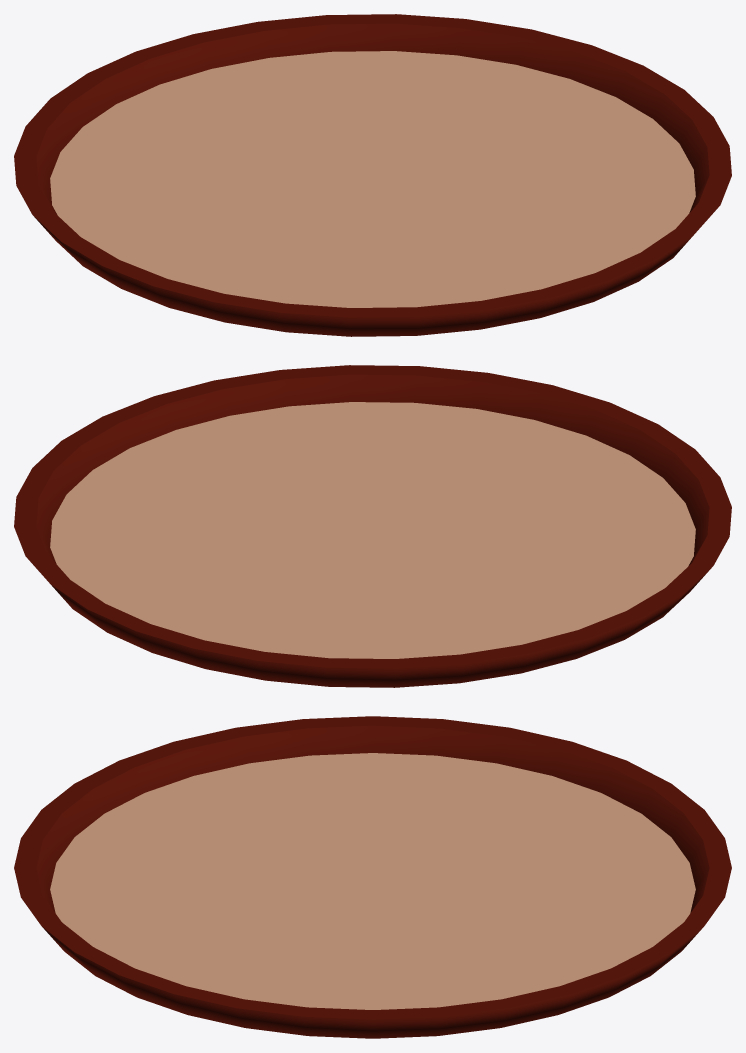
File: Tray.fbx
3 renders of one model, top to bottom at view 1: azimuth 30°, elevation 25°; view 2: azimuth 150°, elevation 25°; view 3: azimuth 270°, elevation 25°, orthographic.
Parts seen in each view (by area): view 1: 円柱.001, 円柱; view 2: 円柱.001, 円柱; view 3: 円柱.001, 円柱.
Part boxes in pixels (bbox=[...]): 円柱.001: bbox=[50, 51, 695, 307]; 円柱: bbox=[14, 14, 731, 336]; 円柱.001: bbox=[50, 402, 695, 658]; 円柱: bbox=[14, 365, 731, 687]; 円柱.001: bbox=[50, 753, 695, 1009]; 円柱: bbox=[14, 716, 731, 1038].
Bounding box in the file's own units: 78.44 × 3.58 × 78.44.
